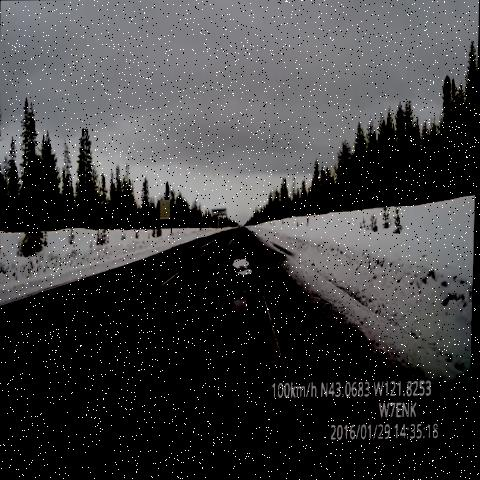pothole: (227, 289, 257, 325), (227, 252, 254, 282), (236, 226, 249, 240)
